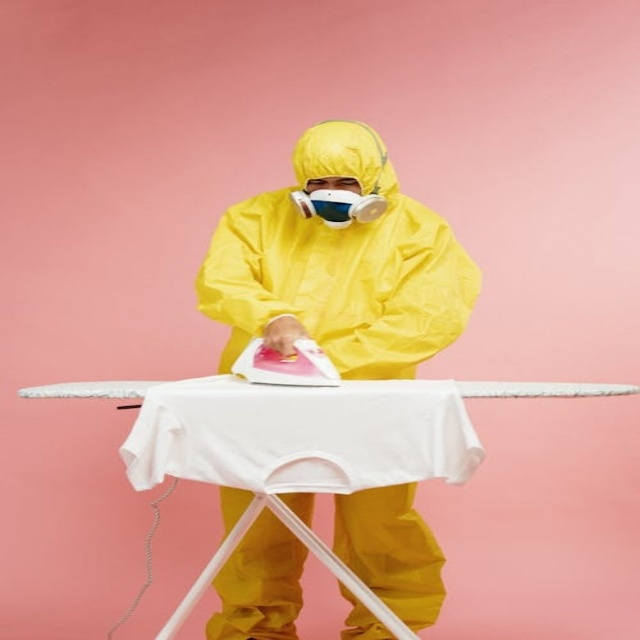Mascara: (290, 189, 387, 228)
Sin_gafas: (303, 174, 361, 189)
Sin_guantes: (261, 314, 309, 357)
